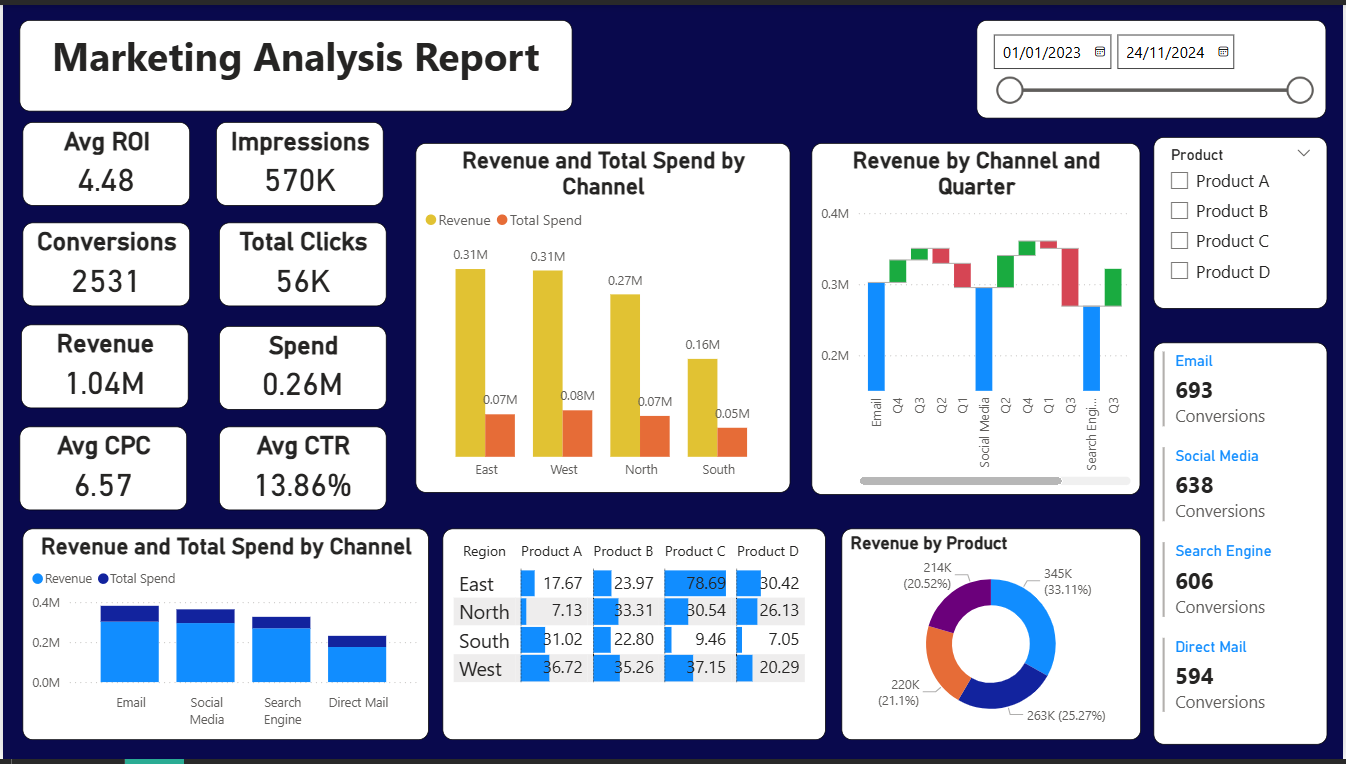

Layout of this report page (visuals, bound fields, positions):
{"tool":"powerbi","page":{"name":"Page 1","canvas":[1280,720],"ordinal":0},"visuals":[{"type":"card","title":"Total Clicks","fields":{"Values":["Sum(Sheet1.Clicks)"]},"box":[206,208,160,80],"z":0},{"type":"card","title":"Conversions","fields":{"Values":["Sum(Sheet1.Conversions)"]},"box":[18,208,160,80],"z":1000},{"type":"card","title":"Impressions","fields":{"Values":["Sum(Sheet1.Impressions)"]},"box":[204,112,160,80],"z":2000},{"type":"card","title":"Avg CPC","fields":{"Values":["Avg(Sheet1.CPC)"]},"box":[16,402,160,80],"z":3000},{"type":"card","title":"Revenue","fields":{"Values":["Sum(Sheet1.Revenue)"]},"box":[17.5,305,160,80],"z":4000},{"type":"card","title":"Spend","fields":{"Values":["Sum(Sheet1.Spend)"]},"box":[206,306,160,80],"z":5000},{"type":"card","title":"Avg ROI","fields":{"Values":["Avg(Sheet1.ROI)"]},"box":[18,112,160,80],"z":6000},{"type":"card","title":"Avg CTR","fields":{"Values":["Avg(Sheet1.CTR)"]},"box":[206,402,160,80],"z":7000},{"type":"textbox","box":[16,14,528,87],"z":8000},{"type":"slicer","fields":{"Values":["Sheet1.Date"]},"box":[930,14,334,94],"z":9000},{"type":"waterfallChart","title":"Revenue by Channel and Quarter","fields":{"Category":["Sheet1.Marketing_Channel"],"Y":["Sum(Sheet1.Revenue)"],"Breakdown":["Sheet1.Quarter"]},"box":[772,132,314,336],"z":10000},{"type":"donutChart","title":"Revenue by Product","fields":{"Category":["Sheet1.Product"],"Y":["Sum(Sheet1.Revenue)"]},"box":[800,500,286,202],"z":11000},{"type":"columnChart","title":"Revenue and Total Spend by Channel","fields":{"Category":["Sheet1.Marketing_Channel"],"Y":["Sum(Sheet1.Revenue)","Sum(Sheet1.Spend)"]},"box":[18,500,388,202],"z":12000},{"type":"clusteredColumnChart","title":"Revenue and Total Spend by Channel","fields":{"Y":["Sum(Sheet1.Revenue)","Sum(Sheet1.Spend)"],"Category":["Sheet1.Region"]},"box":[394,132,358,334],"z":13000},{"type":"multiRowCard","fields":{"Values":["Sum(Sheet1.Conversions)","Sheet1.Marketing_Channel"]},"box":[1098,322,166,384],"z":14000},{"type":"pivotTable","fields":{"Rows":["Sheet1.Region"],"Columns":["Sheet1.Product"],"Values":["Sum(Sheet1.ROI)"]},"box":[420,500,366,202],"z":15000},{"type":"slicer","fields":{"Values":["Sheet1.Product"]},"box":[1098,126,166,164],"z":16000}]}

Visuals, with their boxes in screenshot pixels (x1, y1, x2, y2), scaled from the page's 1280x720 canvas onto the 1346x764 screenshot:
"Total Clicks" card: [left=217, top=221, right=385, bottom=306]
"Conversions" card: [left=19, top=221, right=187, bottom=306]
"Impressions" card: [left=215, top=119, right=383, bottom=204]
"Avg CPC" card: [left=17, top=427, right=185, bottom=511]
"Revenue" card: [left=18, top=324, right=187, bottom=409]
"Spend" card: [left=217, top=325, right=385, bottom=410]
"Avg ROI" card: [left=19, top=119, right=187, bottom=204]
"Avg CTR" card: [left=217, top=427, right=385, bottom=511]
textbox: [left=17, top=15, right=572, bottom=107]
slicer - Sheet1.Date: [left=978, top=15, right=1329, bottom=115]
"Revenue by Channel and Quarter" waterfallChart: [left=812, top=140, right=1142, bottom=497]
"Revenue by Product" donutChart: [left=841, top=531, right=1142, bottom=745]
"Revenue and Total Spend by Channel" columnChart: [left=19, top=531, right=427, bottom=745]
"Revenue and Total Spend by Channel" clusteredColumnChart: [left=414, top=140, right=791, bottom=494]
multiRowCard - Sum(Sheet1.Conversions) x Sheet1.Marketing_Channel: [left=1155, top=342, right=1329, bottom=749]
pivotTable - Sheet1.Region x Sheet1.Product: [left=442, top=531, right=827, bottom=745]
slicer - Sheet1.Product: [left=1155, top=134, right=1329, bottom=308]
